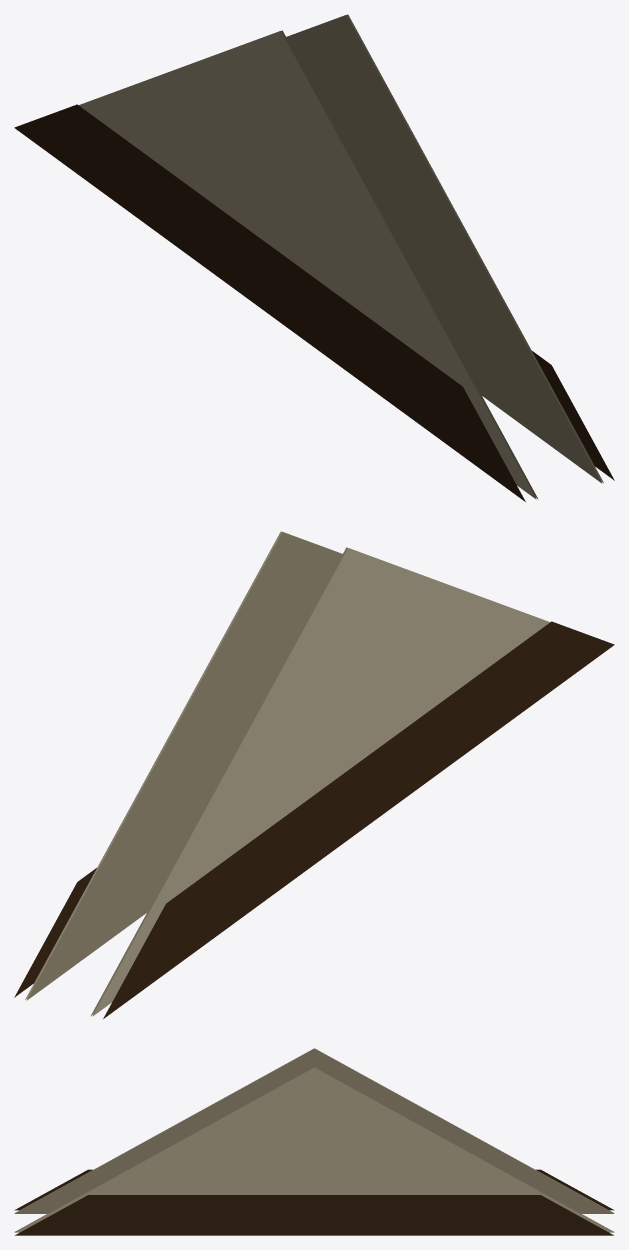
The model's file is wall-halftimber-gable-peak.glb.
3 renders of one model, top to bottom at view 1: azimuth 30°, elevation 25°; view 2: azimuth 150°, elevation 25°; view 3: azimuth 270°, elevation 25°, orthographic. The views are drawn at different scales.
Visible parts, largest first — view 1: wall-halftimber-gable-peak; view 2: wall-halftimber-gable-peak; view 3: wall-halftimber-gable-peak.
Part boxes in pixels (x1=…): wall-halftimber-gable-peak: x1=14, y1=14, x2=614, y2=501; wall-halftimber-gable-peak: x1=14, y1=531, x2=614, y2=1018; wall-halftimber-gable-peak: x1=14, y1=1048, x2=614, y2=1235.
Bounding box in the file's own units: 0.1 × 0.3035 × 1.
